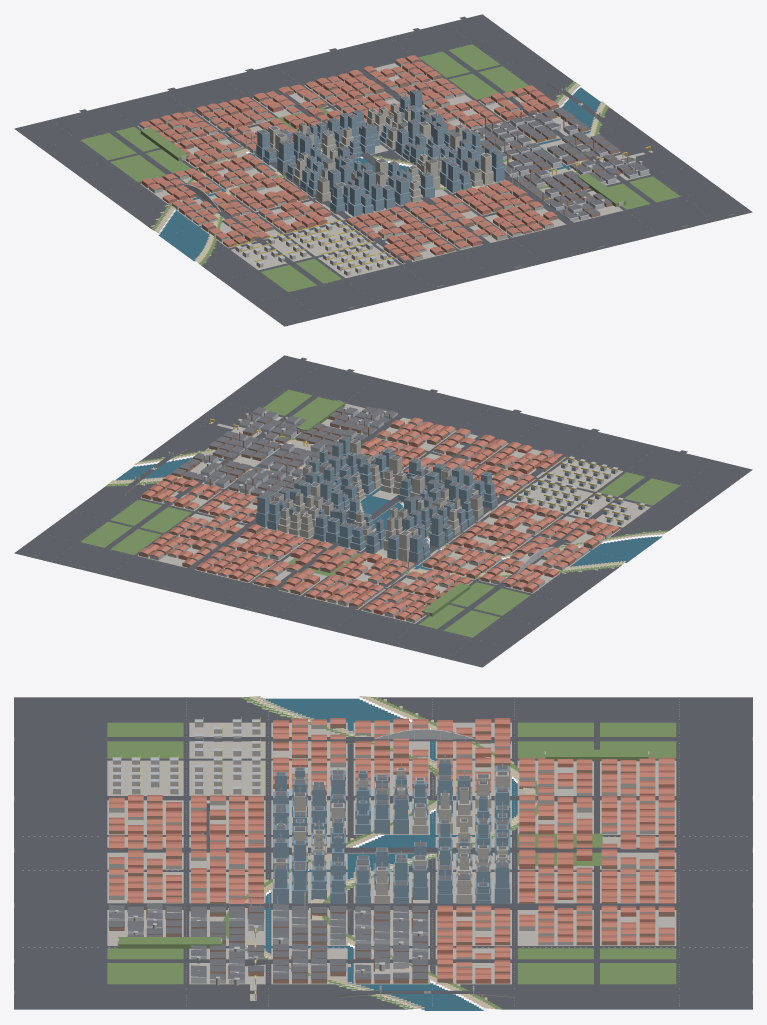
Rendered from riverbend.glb.
3 views of the same model, one above another, from view 1: azimuth 30°, elevation 25°; view 2: azimuth 150°, elevation 25°; view 3: azimuth 270°, elevation 25° (orthographic). The views are drawn at different scales.
Visible parts, largest first — view 1: city; view 2: city; view 3: city.
Part boxes in pixels (left/top/right/bottom): city: left=14, top=14, right=752, bottom=326; city: left=14, top=355, right=752, bottom=667; city: left=14, top=696, right=752, bottom=1010.
Size of the model in its own units: 1800 by 138 by 1800.
